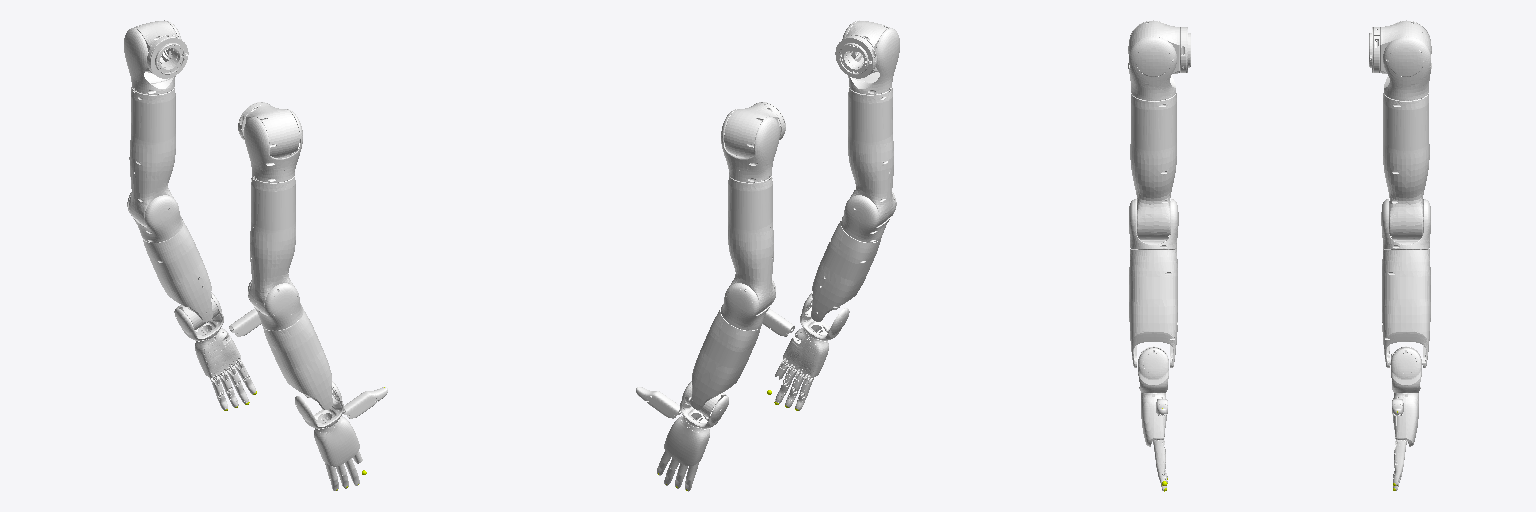
--- What the picture shows (computed from the rendered views, not written in the file) ---
The picture shows the robot from 3 angles, left to right: view 1: azimuth 30°, elevation 25°; view 2: azimuth 150°, elevation 25°; view 3: azimuth 270°, elevation 25°; orthographic projection.
Model T5_D_URDF_ARMNOMASS_v1.0 with 69 links and 68 joints (51 revolute, 17 fixed), rooted at base_link, posed every joint at zero.
Visible links, largest first — view 1: left_upper_arm_yaw_link, right_upper_arm_yaw_link, right_hand_yaw_link, left_hand_yaw_link, right_upper_arm_roll_link, left_upper_arm_pitch_link, right_upper_arm_pitch_link, left_upper_arm_roll_link, left_lower_arm_pitch_link, right_lower_arm_pitch_link, R_hand_base_link, L_hand_base_link (+3 smaller); view 2: right_upper_arm_yaw_link, left_upper_arm_yaw_link, left_hand_yaw_link, right_hand_yaw_link, left_upper_arm_roll_link, right_upper_arm_pitch_link, left_upper_arm_pitch_link, right_upper_arm_roll_link, right_lower_arm_pitch_link, left_lower_arm_pitch_link, L_hand_base_link, R_hand_base_link (+3 smaller); view 3: left_upper_arm_yaw_link, right_upper_arm_yaw_link, right_hand_yaw_link, left_hand_yaw_link, left_upper_arm_roll_link, right_upper_arm_roll_link, right_upper_arm_pitch_link, left_upper_arm_pitch_link, right_hand_roll_link, left_hand_roll_link, left_lower_arm_pitch_link, right_lower_arm_pitch_link (+2 smaller).
Link boxes in pixels (left/top/right/bottom): left_upper_arm_yaw_link: left=129, top=87, right=175, bottom=226; right_upper_arm_yaw_link: left=249, top=176, right=295, bottom=314; right_hand_yaw_link: left=262, top=309, right=332, bottom=409; left_hand_yaw_link: left=143, top=221, right=212, bottom=321; right_upper_arm_roll_link: left=244, top=109, right=302, bottom=182; left_upper_arm_pitch_link: left=134, top=21, right=188, bottom=78; right_upper_arm_pitch_link: left=238, top=102, right=299, bottom=157; left_upper_arm_roll_link: left=124, top=20, right=181, bottom=94; left_lower_arm_pitch_link: left=127, top=192, right=182, bottom=242; right_lower_arm_pitch_link: left=248, top=280, right=302, bottom=330; R_hand_base_link: left=314, top=416, right=359, bottom=466; L_hand_base_link: left=195, top=328, right=241, bottom=381; right_upper_arm_yaw_link: left=848, top=87, right=894, bottom=226; left_upper_arm_yaw_link: left=728, top=176, right=774, bottom=314; left_hand_yaw_link: left=691, top=309, right=761, bottom=409; right_hand_yaw_link: left=811, top=221, right=880, bottom=321; left_upper_arm_roll_link: left=721, top=109, right=779, bottom=182; right_upper_arm_pitch_link: left=835, top=21, right=889, bottom=78; left_upper_arm_pitch_link: left=724, top=102, right=785, bottom=157; right_upper_arm_roll_link: left=842, top=20, right=899, bottom=94; right_lower_arm_pitch_link: left=841, top=192, right=896, bottom=242; left_lower_arm_pitch_link: left=721, top=280, right=775, bottom=330; L_hand_base_link: left=664, top=416, right=709, bottom=466; R_hand_base_link: left=782, top=328, right=828, bottom=381; left_upper_arm_yaw_link: left=1383, top=93, right=1429, bottom=239; right_upper_arm_yaw_link: left=1130, top=93, right=1176, bottom=239; right_hand_yaw_link: left=1129, top=249, right=1177, bottom=367; left_hand_yaw_link: left=1382, top=249, right=1430, bottom=367; left_upper_arm_roll_link: left=1383, top=20, right=1431, bottom=100; right_upper_arm_roll_link: left=1128, top=20, right=1176, bottom=100; right_upper_arm_pitch_link: left=1128, top=21, right=1190, bottom=73; left_upper_arm_pitch_link: left=1369, top=21, right=1431, bottom=73; right_hand_roll_link: left=1138, top=346, right=1168, bottom=395; left_hand_roll_link: left=1391, top=346, right=1421, bottom=395; left_lower_arm_pitch_link: left=1381, top=199, right=1430, bottom=249; right_lower_arm_pitch_link: left=1129, top=199, right=1178, bottom=249.
Bounding box of the posed robot: 0.3123 × 0.5522 × 0.8426 m (x, y, z).
Meshes: 57 distinct files referenced, 34 mesh visuals loaded (34 binary STL); not drawn: 8 (reference not matched to a file when rendering), 15 (file found but could not be loaded).

robot.urdf — T5_D_URDF_ARMNOMASS_v1.0:
<?xml version="1.0" encoding="utf-8"?>
<!-- This URDF was automatically created by SolidWorks to URDF Exporter! Originally created by Stephen Brawner ([email redacted]) 
     Commit Version: 1.6.0-4-g7f85cfe  Build Version: 1.6.7995.38578
     For more information, please see http://wiki.ros.org/sw_urdf_exporter -->
<robot
  name="T5_D_URDF_ARMNOMASS_v1.0">
  <link
    name="base_link">
    <inertial>
      <origin
        xyz="-0.0030357 6.968E-05 -0.087284"
        rpy="0 0 0" />
      <mass
        value="6.6598" />
      <inertia
        ixx="0.048356"
        ixy="-1.314E-05"
        ixz="0.00041517"
        iyy="0.030781"
        iyz="-3.242E-05"
        izz="0.041191" />
    </inertial>
    <visual>
      <origin
        xyz="0 0 0"
        rpy="0 0 0" />
      <geometry>
        <mesh
          filename="../meshes/gr2t2v2_long/base_link.STL" />
      </geometry>
      <material
        name="">
        <color
          rgba="1 1 1 1" />
      </material>
    </visual>
    <collision>
      <origin
        xyz="0 0 0"
        rpy="0 0 0" />
      <geometry>
        <mesh
          filename="../meshes/gr2t2v2_long/base_link.STL" />
      </geometry>
    </collision>
  </link>
  <link
    name="waist_yaw_link">
    <inertial>
      <origin
        xyz="-2.017E-05 8.88E-05 0.024104"
        rpy="0 0 0" />
      <mass
        value="0.67252" />
      <inertia
        ixx="0.0010622"
        ixy="9E-08"
        ixz="-4.3E-07"
        iyy="0.0010624"
        iyz="3.7E-07"
        izz="0.00059099" />
    </inertial>
    <visual>
      <origin
        xyz="0 0 0"
        rpy="0 0 0" />
      <geometry>
        <mesh
          filename="../meshes/gr2t2v2_long/waist_yaw_link.STL" />
      </geometry>
      <material
        name="">
        <color
          rgba="1 1 1 1" />
      </material>
    </visual>
    <collision>
      <origin
        xyz="0 0 0"
        rpy="0 0 0" />
      <geometry>
        <mesh
          filename="../meshes/gr2t2v2_long/waist_yaw_link.STL" />
      </geometry>
    </collision>
  </link>
  <joint
    name="waist_yaw_joint"
    type="revolute">
    <origin
      xyz="0 0 -0.0159"
      rpy="0 0 0" />
    <parent
      link="base_link" />
    <child
      link="waist_yaw_link" />
    <axis
      xyz="0 0 1" />
    <limit
      lower="-2.618"
      upper="2.618"
      effort="74.45"
      velocity="7.7568" />
  </joint>
  <link
    name="torso_link">
    <inertial>
      <origin
        xyz="-0.0054214 0.0010624 -0.12326"
        rpy="0 0 0" />
      <mass
        value="14.058" />
      <inertia
        ixx="0.2545"
        ixy="0.0001127"
        ixz="-0.0023"
        iyy="0.21565"
        iyz="0.00034939"
        izz="0.1107" />
    </inertial>
    <visual>
      <origin
        xyz="0 0 0"
        rpy="0 0 0" />
      <geometry>
        <mesh
          filename="../meshes/gr2t2v2_long/torso_link.STL" />
      </geometry>
      <material
        name="">
        <color
          rgba="1 1 1 1" />
      </material>
    </visual>
    <collision>
      <origin
        xyz="0 0 0"
        rpy="0 0 0" />
      <geometry>
        <mesh
          filename="../meshes/gr2t2v2_long/torso_link.STL" />
      </geometry>
    </collision>
  </link>
  <joint
    name="torso_joint"
    type="fixed">
    <origin
      xyz="0 0 0.39681"
      rpy="0 0 0" />
    <parent
      link="waist_yaw_link" />
    <child
      link="torso_link" />
    <axis
      xyz="0 0 0" />
  </joint>
  <link
    name="head_yaw_link">
    <inertial>
      <origin
        xyz="0 0.0099543 0.0065646"
        rpy="0 0 0" />
      <mass
        value="0.1402" />
      <inertia
        ixx="0.00012944"
        ixy="0"
        ixz="0"
        iyy="0.00010676"
        iyz="-3.991E-05"
        izz="4.821E-05" />
    </inertial>
    <visual>
      <origin
        xyz="0 0 0"
        rpy="0 0 0" />
      <geometry>
        <mesh
          filename="../meshes/gr2t2v2_long/head_yaw_link.STL" />
      </geometry>
      <material
        name="">
        <color
          rgba="1 1 1 1" />
      </material>
    </visual>
    <collision>
      <origin
        xyz="0 0 0"
        rpy="0 0 0" />
      <geometry>
        <mesh
          filename="../meshes/gr2t2v2_long/head_yaw_link.STL" />
      </geometry>
    </collision>
  </link>
  <joint
    name="head_yaw_joint"
    type="revolute">
    <origin
      xyz="0.001 0 0.11061"
      rpy="0 0 0" />
    <parent
      link="torso_link" />
    <child
      link="head_yaw_link" />
    <axis
      xyz="0 0 1" />
    <limit
      lower="-1.3963"
      upper="1.3963"
      effort="17.325"
      velocity="9.1627" />
  </joint>
  <link
    name="head_pitch_link">
    <inertial>
      <origin
        xyz="0.031582 0.0012059 0.072239"
        rpy="0 0 0" />
      <mass
        value="1.6096" />
      <inertia
        ixx="0.0077257"
        ixy="-1.346E-05"
        ixz="-0.00055988"
        iyy="0.010424"
        iyz="0.00010711"
        izz="0.0060799" />
    </inertial>
    <visual>
      <origin
        xyz="0 0 0"
        rpy="0 0 0" />
      <geometry>
        <mesh
          filename="../meshes/gr2t2v2_long/head_pitch_link.STL" />
      </geometry>
      <material
        name="">
        <color
          rgba="1 1 1 1" />
      </material>
    </visual>
    <collision>
      <origin
        xyz="0 0 0"
        rpy="0 0 0" />
      <geometry>
        <mesh
          filename="../meshes/gr2t2v2_long/head_pitch_link.STL" />
      </geometry>
    </collision>
  </link>
  <joint
    name="head_pitch_joint"
    type="revolute">
    <origin
      xyz="0 0 0.044185"
      rpy="0 0 0" />
    <parent
      link="head_yaw_link" />
    <child
      link="head_pitch_link" />
    <axis
      xyz="0 1 0" />
    <limit
      lower="-0.5236"
      upper="0.5236"
      effort="17.325"
      velocity="9.1627" />
  </joint>
  <link
    name="camera_link">
    <inertial>
      <origin
        xyz="0 0 0"
        rpy="0 0 0" />
      <mass
        value="0" />
      <inertia
        ixx="0"
        ixy="0"
        ixz="0"
        iyy="0"
        iyz="0"
        izz="0" />
    </inertial>
    <visual>
      <origin
        xyz="0 0 0"
        rpy="0 0 0" />
      <geometry>
        <mesh
          filename="../meshes/gr2t2v2_long/camera_link.STL" />
      </geometry>
      <material
        name="">
        <color
          rgba="1 1 1 1" />
      </material>
    </visual>
    <collision>
      <origin
        xyz="0 0 0"
        rpy="0 0 0" />
      <geometry>
        <mesh
          filename="../meshes/gr2t2v2_long/camera_link.STL" />
      </geometry>
    </collision>
  </link>
  <joint
    name="camera_joint"
    type="fixed">
    <origin
      xyz="0.11296 0 0.09815"
      rpy="0 0 0" />
    <parent
      link="head_pitch_link" />
    <child
      link="camera_link" />
    <axis
      xyz="0 0 0" />
  </joint>
  <link
    name="left_upper_arm_pitch_link">
    <inertial>
      <origin
        xyz="0.0022312 0.040265 3.797E-05"
        rpy="0 0 0" />
      <mass
        value="1.3432" />
      <inertia
        ixx="0.0031811"
        ixy="-7.306E-05"
        ixz="-1.5E-07"
        iyy="0.0012561"
        iyz="9E-08"
        izz="0.0030442" />
    </inertial>
    <visual>
      <origin
        xyz="0 0 0"
        rpy="0 0 0" />
      <geometry>
        <mesh
          filename="../meshes/gr2t2v2_long/left_upper_arm_pitch_link.STL" />
      </geometry>
      <material
        name="">
        <color
          rgba="1 1 1 1" />
      </material>
    </visual>
    <collision>
      <origin
        xyz="0 0 0"
        rpy="0 0 0" />
      <geometry>
        <mesh
          filename="../meshes/gr2t2v2_long/left_upper_arm_pitch_link.STL" />
      </geometry>
    </collision>
  </link>
  <joint
    name="left_shoulder_pitch_joint"
    type="revolute">
    <origin
      xyz="0 0.15115 0"
      rpy="0 0 0" />
    <parent
      link="torso_link" />
    <child
      link="left_upper_arm_pitch_link" />
    <axis
      xyz="0 1 0" />
    <limit
      lower="-2.9671"
      upper="2.9671"
      effort="74.45"
      velocity="7.7568" />
  </joint>
  <link
    name="left_upper_arm_roll_link">
    <inertial>
      <origin
        xyz="0.0087432 0.0022878 -0.038787"
        rpy="0 0 0" />
      <mass
        value="0.96142" />
      <inertia
        ixx="0.0026111"
        ixy="1.105E-05"
        ixz="-0.00033468"
        iyy="0.0028017"
        iyz="2.91E-06"
        izz="0.00091191" />
    </inertial>
    <visual>
      <origin
        xyz="0 0 0"
        rpy="0 0 0" />
      <geometry>
        <mesh
          filename="../meshes/gr2t2v2_long/left_upper_arm_roll_link.STL" />
      </geometry>
      <material
        name="">
        <color
          rgba="1 1 1 1" />
      </material>
    </visual>
    <collision>
      <origin
        xyz="0 0 0"
        rpy="0 0 0" />
      <geometry>
        <mesh
          filename="../meshes/gr2t2v2_long/left_upper_arm_roll_link.STL" />
      </geometry>
    </collision>
  </link>
  <joint
    name="left_shoulder_roll_joint"
    type="revolute">
    <origin
      xyz="0 0.078848 0"
      rpy="0 0 0" />
    <parent
      link="left_upper_arm_pitch_link" />
    <child
      link="left_upper_arm_roll_link" />
    <axis
      xyz="1 0 0" />
    <limit
      lower="-0.5236"
      upper="2.7925"
      effort="74.45"
      velocity="7.7568" />
  </joint>
  <link
    name="left_upper_arm_yaw_link">
    <inertial>
      <origin
        xyz="-0.00056161 0.0012137 -0.091108"
        rpy="0 0 0" />
      <mass
        value="1.3181" />
      <inertia
        ixx="0.0067903"
        ixy="3.2E-07"
        ixz="-5.12E-06"
        iyy="0.0068059"
        iyz="9.238E-05"
        izz="0.0010853" />
    </inertial>
    <visual>
      <origin
        xyz="0 0 0"
        rpy="0 0 0" />
      <geometry>
        <mesh
          filename="../meshes/gr2t2v2_long/left_upper_arm_yaw_link.STL" />
      </geometry>
      <material
        name="">
        <color
          rgba="1 1 1 1" />
      </material>
    </visual>
    <collision>
      <origin
        xyz="0 0 0"
        rpy="0 0 0" />
      <geometry>
        <mesh
          filename="../meshes/gr2t2v2_long/left_upper_arm_yaw_link.STL" />
      </geometry>
    </collision>
  </link>
  <joint
    name="left_shoulder_yaw_joint"
    type="revolute">
    <origin
      xyz="0 0 -0.09438"
      rpy="0 0 0" />
    <parent
      link="left_upper_arm_roll_link" />
    <child
      link="left_upper_arm_yaw_link" />
    <axis
      xyz="0 0 1" />
    <limit
      lower="-1.8326"
      upper="1.8326"
      effort="42.75"
      velocity="6.283" />
  </joint>
  <link
    name="left_lower_arm_pitch_link">
    <inertial>
      <origin
        xyz="-0.0014862 0.006973 -0.021097"
        rpy="0 0 0" />
      <mass
        value="0.45807" />
      <inertia
        ixx="0.00068974"
        ixy="-3.65E-06"
        ixz="-2.99E-06"
        iyy="0.00057464"
        iyz="-6.575E-05"
        izz="0.00038897" />
    </inertial>
    <visual>
      <origin
        xyz="0 0 0"
        rpy="0 0 0" />
      <geometry>
        <mesh
          filename="../meshes/gr2t2v2_long/left_lower_arm_pitch_link.STL" />
      </geometry>
      <material
        name="">
        <color
          rgba="1 1 1 1" />
      </material>
    </visual>
    <collision>
      <origin
        xyz="0 0 0"
        rpy="0 0 0" />
      <geometry>
        <mesh
          filename="../meshes/gr2t2v2_long/left_lower_arm_pitch_link.STL" />
      </geometry>
    </collision>
  </link>
  <joint
    name="left_elbow_pitch_joint"
    type="revolute">
    <origin
      xyz="0 0 -0.24562"
      rpy="0 -0.3927 0" />
    <parent
      link="left_upper_arm_yaw_link" />
    <child
      link="left_lower_arm_pitch_link" />
    <axis
      xyz="0 1 0" />
    <limit
      lower="-1.5272"
      upper="0.47997"
      effort="42.75"
      velocity="6.283" />
  </joint>
  <link
    name="left_hand_yaw_link">
    <inertial>
      <origin
        xyz="0.00027991 0.0038031 -0.062955"
        rpy="0 0 0" />
      <mass
        value="1.0855" />
      <inertia
        ixx="0.0023598"
        ixy="-9.31E-06"
        ixz="2.063E-05"
        iyy="0.002234"
        iyz="0.00013994"
        izz="0.00088838" />
    </inertial>
    <visual>
      <origin
        xyz="0 0 0"
        rpy="0 0 0" />
      <geometry>
        <mesh
          filename="../meshes/gr2t2v2_long/left_hand_yaw_link.STL" />
      </geometry>
      <material
        name="">
        <color
          rgba="1 1 1 1" />
      </material>
    </visual>
    <collision>
      <origin
        xyz="0 0 0"
        rpy="0 0 0" />
      <geometry>
        <mesh
          filename="../meshes/gr2t2v2_long/left_hand_yaw_link.STL" />
      </geometry>
    </collision>
  </link>
  <joint
    name="left_wrist_yaw_joint"
    type="revolute">
    <origin
      xyz="0 0 -0.053425"
      rpy="0 0 0" />
    <parent
      link="left_lower_arm_pitch_link" />
    <child
      link="left_hand_yaw_link" />
    <axis
      xyz="0 0 1" />
    <limit
      lower="-1.8326"
      upper="1.8326"
      effort="42.9"
      velocity="6.28" />
  </joint>
  <link
    name="left_hand_pitch_link">
    <inertial>
      <origin
        xyz="0.0038604 2.7474E-05 2.9411E-06"
        rpy="0 0 0" />
      <mass
        value="0.45716" />
      <inertia
        ixx="0.00021943"
        ixy="-3.7E-07"
        ixz="-8.6975E-08"
        iyy="0.00022813"
        iyz="-2.1E-07"
        izz="0.00023483" />
    </inertial>
    <visual>
      <origin
        xyz="0 0 0"
        rpy="0 0 0" />
      <geometry>
        <mesh
          filename="../meshes/gr2t2v2_long/left_hand_pitch_link.STL" />
      </geometry>
      <material
        name="">
        <color
          rgba="1 1 1 1" />
      </material>
    </visual>
    <collision>
      <origin
        xyz="0 0 0"
        rpy="0 0 0" />
      <geometry>
        <mesh
          filename="../meshes/gr2t2v2_long/left_hand_pitch_link.STL" />
      </geometry>
    </collision>
  </link>
  <joint
    name="left_wrist_pitch_joint"
    type="revolute">
    <origin
      xyz="0 0 -0.20758"
      rpy="0 0 0" />
    <parent
      link="left_hand_yaw_link" />
    <child
      link="left_hand_pitch_link" />
    <axis
      xyz="0 1 0" />
    <limit
      lower="-0.61087"
      upper="0.61087"
      effort="17.325"
      velocity="9.1627" />
  </joint>
  <link
    name="left_hand_roll_link">
    <inertial>
      <origin
        xyz="0.0087325 -2.8386E-05 -0.015719"
        rpy="0 0 0" />
      <mass
        value="0.20259" />
      <inertia
        ixx="0.0001134"
        ixy="-1.8583E-08"
        ixz="-2.4468E-05"
        iyy="0.00019338"
        iyz="-6.0314E-08"
        izz="0.0001471" />
    </inertial>
    <visual>
      <origin
        xyz="0 0 0"
        rpy="0 0 0" />
      <geometry>
        <mesh
          filename="../meshes/gr2t2v2_long/left_hand_roll_link.STL" />
      </geometry>
      <material
        name="">
        <color
          rgba="1 1 1 1" />
      </material>
    </visual>
    <collision>
      <origin
        xyz="0 0 0"
        rpy="0 0 0" />
      <geometry>
        <mesh
          filename="../meshes/gr2t2v2_long/left_hand_roll_link.STL" />
      </geometry>
    </collision>
  </link>
  <joint
    name="left_wrist_roll_joint"
    type="revolute">
    <origin
      xyz="0 0 0"
      rpy="0 0 0" />
    <parent
      link="left_hand_pitch_link" />
    <child
      link="left_hand_roll_link" />
    <axis
      xyz="1 0 0" />
    <limit
      lower="-0.95993"
      upper="0.95993"
      effort="17.325"
      velocity="9.1627" />
  </joint>
  <link
    name="left_end_effector_link">
  </link>
  <joint
    name="left_end_effector_joint"
    type="fixed">
    <origin
      xyz="0 0 -0.055"
      rpy="0 0 0" />
    <parent
      link="left_hand_roll_link" />
    <child
      link="left_end_effector_link" />
    <axis
      xyz="0 0 0" />
  </joint>



  <link
    name="L_hand_base_link">
    <inertial>
      <origin
        xyz="-0.0010133 -0.001628 -0.049512"
        rpy="0 0 0" />
      <mass
        value="0.29928" />
      <inertia
        ixx="0.00020599"
        ixy="-1.22E-06"
        ixz="8.34E-06"
        iyy="0.00028701"
        iyz="7.34E-06"
        izz="0.0001476" />
    </inertial>
    <visual>
      <origin
        xyz="0 0 0"
        rpy="0 0 0" />
      <geometry>
        <mesh
          filename="../meshes/fourier_hand_6dof/L_hand_base_link.STL" />
      </geometry>
      <material
        name="">
        <color
          rgba="1 1 1 1" />
      </material>
    </visual>
    <collision>
      <origin
        xyz="0 0 0"
        rpy="0 0 0" />
      <geometry>
        <mesh
          filename="../meshes/fourier_hand_6dof/L_hand_base_link.STL" />
      </geometry>
    </collision>
  </link>
  <joint
    name="L_hand_base_joint"
    type="fixed">
    <origin
      xyz="0 0 0"
      rpy="0 0 0" />
    <parent
      link="left_end_effector_link" />
    <child
      link="L_hand_base_link" />
    <axis
      xyz="0 0 0" />
  </joint>
  <link
    name="L_thumb_proximal_yaw_link">
    <inertial>
      <origin
        xyz="0.011674 -0.00039205 0.00044569"
        rpy="0 0 0" />
      <mass
        value="0.0084328" />
      <inertia
        ixx="3E-07"
        ixy="1E-08"
        ixz="-5E-08"
        iyy="8.8E-07"
        iyz="0"
        izz="8.5E-07" />
    </inertial>
    <visual>
      <origin
        xyz="0 0 0"
        rpy="0 0 0" />
      <geometry>
        <mesh
          filename="../meshes/fourier_hand_6dof/L_thumb_proximal_yaw_link.STL" />
      </geometry>
      <material
        name="">
        <color
          rgba="1 1 1 1" />
      </material>
    </visual>
    <collision>
      <origin
        xyz="0 0 0"
        rpy="0 0 0" />
      <geometry>
        <mesh
          filename="../meshes/fourier_hand_6dof/L_thumb_proximal_yaw_link.STL" />
      </geometry>
    </collision>
  </link>
  <joint
    name="L_thumb_proximal_yaw_joint"
    type="revolute">
    <origin
      xyz="0.022 -0.0155 -0.022992"
      rpy="0 0 0" />
    <parent
      link="L_hand_base_link" />
    <child
      link="L_thumb_proximal_yaw_link" />
    <axis
      xyz="0 0 1" />
    <limit
      lower="-1.696"
      upper="0"
      effort="0"
      velocity="0" />
  </joint>
  <link
    name="L_thumb_proximal_pitch_link">
    <inertial>
      <origin
        xyz="0.034496 0.00048877 1.942E-05"
        rpy="0 0 0" />
      <mass
        value="0.060766" />
      <inertia
        ixx="5.08E-06"
        ixy="8.1E-07"
        ixz="2E-08"
        iyy="1.71E-05"
        iyz="0"
        izz="1.85E-05" />
    </inertial>
    <visual>
      <origin
        xyz="0 0 0"
        rpy="0 0 0" />
      <geometry>
        <mesh
          filename="../meshes/fourier_hand_6dof/L_thumb_proximal_pitch_link.STL" />
      </geometry>
      <material
        name="">
        <color
          rgba="1 1 1 1" />
      </material>
    </visual>
    <collision>
      <origin
        xyz="0 0 0"
        rpy="0 0 0" />
      <geometry>
        <mesh
          filename="../meshes/fourier_hand_6dof/L_thumb_proximal_pitch_link.STL" />
      </geometry>
    </collision>
  </link>
  <joint
    name="L_thumb_proximal_pitch_joint"
    type="revolute">
    <origin
      xyz="0.021749 -0.00016321 0"
      rpy="-1.5708 0 -0.0052052" />
    <parent
      link="L_thumb_proximal_yaw_link" />
    <child
      link="L_thumb_proximal_pitch_link" />
    <axis
      xyz="0 0 1" />
    <limit
      lower="0"
      upper="1.143"
      effort="0"
      velocity="0" />
  </joint>
  <link
    name="L_thumb_distal_link">
    <inertial>
      <origin
        xyz="0.012862 -0.0029035 0"
        rpy="0 0 0" />
      <mass
        value="0.018024" />
      <inertia
        ixx="8.6E-07"
        ixy="-1.4E-07"
        ixz="0"
        iyy="2E-06"
        iyz="0"
        izz="1.87E-06" />
    </inertial>
    <visual>
      <origin
        xyz="0 0 0"
        rpy="0 0 0" />
      <geometry>
        <mesh
          filename="../meshes/fourier_hand_6dof/L_thumb_distal_link.STL" />
      </geometry>
      <material
        name="">
        <color
          rgba="1 1 1 1" />
      </material>
    </visual>
    <collision>
      <origin
        xyz="0 0 0"
        rpy="0 0 0" />
      <geometry>
        <mesh
          filename="../meshes/fourier_hand_6dof/L_thumb_distal_link.STL" />
      </geometry>
    </collision>
  </link>
  <joint
    name="L_thumb_distal_joint"
    type="revolute">
    <origin
      xyz="0.061549 0.007464 0"
      rpy="0 1.7448E-05 -0.055652" />
    <parent
      link="L_thumb_proximal_pitch_link" />
    <child
      link="L_thumb_distal_link" />
    <axis
      xyz="0 0 1" />
    <limit
      lower="0"
      upper="1.248"
      effort="0"
      velocity="0" />
    <mimic
      joint="L_thumb_proximal_pitch_joint"
      multiplier="1.06"
      offset="0" />
  </joint>

  <link name="L_thumb_tip_link">
    <visual>
      <origin
        xyz="0 0 0"
        rpy="0 0 0" />
      <geometry>
        <sphere radius="0.005" />
      </geometry>
      <material name="yellow">
        <color rgba="0.9 1 0 1" />
      </material>
    </visual>
  </link>
  <joint name="L_thumb_tip_joint" type="fixed">
    <parent link="L_thumb_distal_link" />
    <child link="L_thumb_tip_link" />
    <origin rpy="0 0 0" xyz="0.0305 -0.001 0" />
  </joint>


  <link
    name="L_index_proximal_link">
    <inertial>
      <origin
        xyz="0.01388524 0.00133459 9.91E-06"
        rpy="0 0 0" />
      <mass
        value="0.01124444" />
      <inertia
        ixx="7E-07"
        ixy="2.1E-07"
        ixz="0"
        iyy="1.81E-06"
        iyz="0"
        izz="1.87E-06" />
    </inertial>
    <visual>
      <origin
        xyz="0 0 0"
        rpy="0 0 0" />
      <geometry>
        <mesh
          filename="../meshes/fourier_hand_6dof/L_index_proximal_link.STL" />
      </geometry>
      <material
        name="">
        <color
          rgba="1 1 1 1" />
      </material>
    </visual>
    <collision>
      <origin
        xyz="0 0 0"
        rpy="0 0 0" />
      <geometry>
        <mesh
          filename="../meshes/fourier_hand_6dof/L_index_proximal_link.STL" />
      </geometry>
    </collision>
  </link>
  <joint
    name="L_index_proximal_joint"
    type="revolute">
    <origin
      xyz="0.026868 -0.0123 -0.093989"
      rpy="0 1.5184 0" />
    <parent
      link="L_hand_base_link" />
    <child
      link="L_index_proximal_link" />
    <axis
      xyz="0 0 1" />
    <limit
      lower="-1.592"
      upper="0"
      effort="0"
      velocity="0" />
  </joint>
  <link
    name="L_index_intermediate_link">
    <inertial>
      <origin
        xyz="0.01473915 0.00479264 6.8E-06"
        rpy="0 0 0" />
      <mass
        value="0.0027085" />
      <inertia
        ixx="8E-08"
        ixy="3E-08"
        ixz="0"
        iyy="4.9E-07"
        iyz="0"
        izz="4.9E-07" />
    </inertial>
    <visual>
      <origin
        xyz="0 0 0"
        rpy="0 0 0" />
      <geometry>
        <mesh
          filename="../meshes/fourier_hand_6dof/L_index_intermediate_link.STL" />
      </geometry>
      <material
        name="">
        <color
          rgba="1 1 1 1" />
      </material>
    </visual>
    <collision>
      <origin
        xyz="0 0 0"
        rpy="0 0 0" />
      <geometry>
        <mesh
          filename="../meshes/fourier_hand_6dof/L_index_intermediate_link.STL" />
      </geometry>
    </collision>
  </link>
  <joint
    name="L_index_intermediate_joint"
    type="revolute">
    <origin
      xyz="0.031533 -0.0054444 0"
      rpy="0 0.00014037 -0.0018338" />
    <parent
      link="L_index_proximal_link" />
    <child
      link="L_index_intermediate_link" />
    <axis
      xyz="0 0 1" />
    <limit
      lower="-1.791"
      upper="0"
      effort="0"
      velocity="0" />
    <mimic
      joint="L_index_proximal_joint"
      multiplier="0.975"
      offset="0" />
  </joint>

  <link name="L_index_tip_link">
    <visual>
      <origin
        xyz="0 0 0"
        rpy="0 0 0" />
      <geometry>
        <sphere radius="0.005" />
      </geometry>
      <material name="yellow">
        <color rgba="0.9 1 0 1" />
      </material>
    </visual>
  </link>
  <joint name="L_index_tip_joint" type="fixed">
    <parent link="L_index_intermediate_link" />
    <child link="L_index_tip_link" />
    <origin rpy="0 0 0" xyz="0.0390 -0.0020 0" />
  </joint>


  <link
    name="L_middle_proximal_link">
    <inertial>
      <origin
        xyz="0.01388815 0.00130401 9.91E-06"
        rpy="0 0 0" />
      <mass
        value="0.01124444" />
      <inertia
        ixx="7E-07"
        ixy="2.2E-07"
        ixz="0"
        iyy="1.81E-06"
        iyz="0"
        izz="1.87E-06" />
    </inertial>
    <visual>
      <origin
        xyz="0 0 0"
        rpy="0 0 0" />
      <geometry>
        <mesh
          filename="../meshes/fourier_hand_6dof/L_middle_proximal_link.STL" />
      </geometry>
      <material
        name="">
        <color
          rgba="1 1 1 1" />
      </material>
    </visual>
    <collision>
      <origin
        xyz="0 0 0"
        rpy="0 0 0" />
      <geometry>
        <mesh
          filename="../meshes/fourier_hand_6dof/L_middle_proximal_link.STL" />
      </geometry>
    </collision>
  </link>
  <joint
    name="L_middle_proximal_joint"
    type="revolute">
    <origin
      xyz="0.0085 -0.0123 -0.095992"
      rpy="0 1.5708 0" />
    <parent
      link="L_hand_base_link" />
    <child
      link="L_middle_proximal_link" />
    <axis
      xyz="0 0 1" />
    <limit
      lower="-1.593"
      upper="0"
      effort="0"
      velocity="0" />
  </joint>
  <link
    name="L_middle_intermediate_link">
    <inertial>
      <origin
        xyz="0.01836 0.0048894 0"
        rpy="0 0 0" />
      <mass
        value="0.0032739" />
      <inertia
        ixx="9E-08"
        ixy="5E-08"
        ixz="0"
        iyy="7.9E-07"
        iyz="0"
        izz="7.8E-07" />
    </inertial>
    <visual>
      <origin
        xyz="0 0 0"
        rpy="0 0 0" />
      <geometry>
        <mesh
          filename="../meshes/fourier_hand_6dof/L_middle_intermediate_link.STL" />
      </geometry>
      <material
        name="">
        <color
          rgba="1 1 1 1" />
      </material>
    </visual>
    <collision>
      <origin
        xyz="0 0 0"
        rpy="0 0 0" />
      <geometry>
        <mesh
          filename="../meshes/fourier_hand_6dof/L_middle_intermediate_link.STL" />
      </geometry>
    </collision>
  </link>
  <joint
    name="L_middle_intermediate_joint"
    type="revolute">
    <origin
      xyz="0.031521 -0.0055139 0"
      rpy="0 0.00015517 0.0048744" />
    <parent
      link="L_middle_proximal_link" />
    <child
      link="L_middle_intermediate_link" />
    <axis
      xyz="0 0 1" />
    <limit
      lower="-1.792"
      upper="0"
      effort="0"
      velocity="0" />
    <mimic
      joint="L_middle_proximal_joint"
      multiplier="0.975"
      offset="0" />
  </joint>

  <link name="L_middle_tip_link">
    <visual>
      <origin
        xyz="0 0 0"
        rpy="0 0 0" />
      <geometry>
        <sphere radius="0.005" />
      </geometry>
      <material name="yellow">
        <color rgba="0.9 1 0 1" />
      </material>
    </visual>
  </link>
  <joint name="L_middle_tip_joint" type="fixed">
    <parent link="L_middle_intermediate_link" />
    <child link="L_middle_tip_link" />
    <origin rpy="0 0 0" xyz="0.047 -0.0025 0" />
  </joint>


  <link
    name="L_ring_proximal_link">
    <inertial>
      <origin
        xyz="0.01388576 0.00132917 0.00025991"
        rpy="0 0 0" />
      <mass
        value="0.01124444" />
      <inertia
        ixx="7E-07"
        ixy="2.1E-07"
        ixz="0"
        iyy="1.81E-06"
        iyz="0"
        izz="1.87E-06" />
    </inertial>
    <visual>
      <origin
        xyz="0 0 0"
        rpy="0 0 0" />
      <geometry>
        <mesh
          filename="../meshes/fourier_hand_6dof/L_ring_proximal_link.STL" />
      </geometry>
      <material
        name="">
        <color
          rgba="1 1 1 1" />
      </material>
    </visual>
    <collision>
      <origin
        xyz="0 0 0"
        rpy="0 0 0" />
      <geometry>
        <mesh
          filename="../meshes/fourier_hand_6dof/L_ring_proximal_link.STL" />
      </geometry>
    </collision>
  </link>
  <joint
    name="L_ring_proximal_joint"
    type="revolute">
    <origin
      xyz="-0.010211 -0.0123 -0.095924"
      rpy="3.1416 1.5184 3.1416" />
    <parent
      link="L_hand_base_link" />
    <child
      link="L_ring_proximal_link" />
    <axis
      xyz="0 0 1" />
    <limit
      lower="-1.593"
      upper="0"
      effort="0"
      velocity="0" />
  </joint>
  <link
    name="L_ring_intermediate_link">
    <inertial>
      <origin
        xyz="0.014739 0.0047926 6.8E-06"
        rpy="0 0 0" />
      <mass
        value="0.0027085" />
      <inertia
        ixx="8E-08"
        ixy="3E-08"
        ixz="0"
        iyy="4.9E-07"
        iyz="0"
        izz="4.9E-07" />
    </inertial>
    <visual>
      <origin
        xyz="0 0 0"
        rpy="0 0 0" />
      <geometry>
        <mesh
          filename="../meshes/fourier_hand_6dof/L_ring_intermediate_link.STL" />
      </geometry>
      <material
        name="">
        <color
          rgba="1 1 1 1" />
      </material>
    </visual>
    <collision>
      <origin
        xyz="0 0 0"
        rpy="0 0 0" />
      <geometry>
        <mesh
          filename="../meshes/fourier_hand_6dof/L_ring_intermediate_link.STL" />
      </geometry>
    </collision>
  </link>
  <joint
    name="L_ring_intermediate_joint"
    type="revolute">
    <origin
      xyz="0.031531 -0.0054567 0.00025"
      rpy="0 0.00014037 -0.0025338" />
    <parent
      link="L_ring_proximal_link" />
    <child
      link="L_ring_intermediate_link" />
    <axis
      xyz="0 0 1" />
    <limit
      lower="-1.791"
      upper="0"
      effort="0"
      velocity="0" />
    <mimic
      joint="L_ring_proximal_joint"
      multiplier="0.975"
      offset="0" />
  </joint>

  <link name="L_ring_tip_link">
    <visual>
      <origin
        xyz="0 0 0"
        rpy="0 0 0" />
      <geometry>
        <sphere radius="0.005" />
      </geometry>
      <material name="green">
        <color rgba="0.9 1 0 1" />
      </material>
    </visual>
  </link>
  <joint name="L_ring_tip_joint" type="fixed">
    <parent link="L_ring_intermediate_link" />
    <child link="L_ring_tip_link" />
    <origin rpy="0 0 0" xyz="0.0385 -0.0015 0" />
  </joint>


  <link
    name="L_pinky_proximal_link">
    <inertial>
      <origin
        xyz="0.01388552 0.0013317 9.91E-06"
        rpy="0 0 0" />
      <mass
        value="0.01124444" />
      <inertia
        ixx="7E-07"
        ixy="2.1E-07"
        ixz="0"
        iyy="1.81E-06"
        iyz="0"
        izz="1.87E-06" />
    </inertial>
    <visual>
      <origin
        xyz="0 0 0"
        rpy="0 0 0" />
      <geometry>
        <mesh
          filename="../meshes/fourier_hand_6dof/L_pinky_proximal_link.STL" />
      </geometry>
      <material
        name="">
        <color
          rgba="1 1 1 1" />
      </material>
    </visual>
    <collision>
      <origin
        xyz="0 0 0"
        rpy="0 0 0" />
      <geometry>
        <mesh
          filename="../meshes/fourier_hand_6dof/L_pinky_proximal_link.STL" />
      </geometry>
    </collision>
  </link>
  <joint
    name="L_pinky_proximal_joint"
    type="revolute">
    <origin
      xyz="-0.028228 -0.0123 -0.094012"
      rpy="3.1416 1.4661 3.1416" />
    <parent
      link="L_hand_base_link" />
    <child
      link="L_pinky_proximal_link" />
    <axis
      xyz="0 0 1" />
    <limit
      lower="-1.592"
      upper="0"
      effort="0"
      velocity="0" />
  </joint>
  <link
    name="L_pinky_intermediate_link">
    <inertial>
      <origin
        xyz="0.012117 0.0047104 1.872E-05"
        rpy="0 0 0" />
      <mass
        value="0.0024076" />
      <inertia
        ixx="7E-08"
        ixy="1E-08"
        ixz="0"
        iyy="3.2E-07"
        iyz="0"
        izz="3.2E-07" />
    </inertial>
    <visual>
      <origin
        xyz="0 0 0"
        rpy="0 0 0" />
      <geometry>
        <mesh
          filename="../meshes/fourier_hand_6dof/L_pinky_intermediate_link.STL" />
      </geometry>
      <material
        name="">
        <color
          rgba="1 1 1 1" />
      </material>
    </visual>
    <collision>
      <origin
        xyz="0 0 0"
        rpy="0 0 0" />
      <geometry>
        <mesh
          filename="../meshes/fourier_hand_6dof/L_pinky_intermediate_link.STL" />
      </geometry>
    </collision>
  </link>
  <joint
    name="L_pinky_intermediate_joint"
    type="revolute">
    <origin
      xyz="0.031532 -0.005451 0"
      rpy="0 0.00032164 -0.011403" />
    <parent
      link="L_pinky_proximal_link" />
    <child
      link="L_pinky_intermediate_link" />
    <axis
      xyz="0 0 1" />
    <limit
      lower="-1.791"
      upper="0"
      effort="0"
      velocity="0" />
    <mimic
      joint="L_pinky_proximal_joint"
      multiplier="0.975"
      offset="0" />
  </joint>

  <link name="L_pinky_tip_link">
    <visual>
      <origin
        xyz="0 0 0"
        rpy="0 0 0" />
      <geometry>
        <sphere radius="0.005" />
      </geometry>
      <material name="yellow">
        <color rgba="0.9 1 0 1" />
      </material>
    </visual>
  </link>
  <joint name="L_pinky_tip_joint" type="fixed">
    <parent link="L_pinky_intermediate_link" />
    <child link="L_pinky_tip_link" />
    <origin rpy="0 0 0" xyz="0.033 -0.0015 0" />
  </joint>



  <link
    name="right_upper_arm_pitch_link">
    <inertial>
      <origin
        xyz="0.0022312 -0.040265 3.797E-05"
        rpy="0 0 0" />
      <mass
        value="1.3432" />
      <inertia
        ixx="0.0031811"
        ixy="7.306E-05"
        ixz="-1.5E-07"
        iyy="0.0012561"
        iyz="-9E-08"
        izz="0.0030442" />
    </inertial>
    <visual>
      <origin
        xyz="0 0 0"
        rpy="0 0 0" />
      <geometry>
        <mesh
          filename="../meshes/gr2t2v2_long/right_upper_arm_pitch_link.STL" />
      </geometry>
      <material
        name="">
        <color
          rgba="1 1 1 1" />
      </material>
    </visual>
    <collision>
      <origin
        xyz="0 0 0"
        rpy="0 0 0" />
      <geometry>
        <mesh
          filename="../meshes/gr2t2v2_long/right_upper_arm_pitch_link.STL" />
      </geometry>
    </collision>
  </link>
  <joint
    name="right_shoulder_pitch_joint"
    type="revolute">
    <origin
      xyz="0 -0.1585 0"
      rpy="0 0 0" />
    <parent
      link="torso_link" />
    <child
      link="right_upper_arm_pitch_link" />
    <axis
      xyz="0 1 0" />
    <limit
      lower="-2.9671"
      upper="2.9671"
      effort="74.45"
      velocity="7.7568" />
  </joint>
  <link
    name="right_upper_arm_roll_link">
    <inertial>
      <origin
        xyz="0.0087432 -0.0022878 -0.038787"
        rpy="0 0 0" />
      <mass
        value="0.96142" />
      <inertia
        ixx="0.0026111"
        ixy="-1.105E-05"
        ixz="-0.00033468"
        iyy="0.0028017"
        iyz="-2.91E-06"
        izz="0.00091191" />
    </inertial>
    <visual>
      <origin
        xyz="0 0 0"
        rpy="0 0 0" />
      <geometry>
        <mesh
          filename="../meshes/gr2t2v2_long/right_upper_arm_roll_link.STL" />
      </geometry>
      <material
        name="">
        <color
          rgba="1 1 1 1" />
      </material>
    </visual>
    <collision>
      <origin
        xyz="0 0 0"
        rpy="0 0 0" />
      <geometry>
        <mesh
          filename="../meshes/gr2t2v2_long/right_upper_arm_roll_link.STL" />
      </geometry>
    </collision>
  </link>
  <joint
    name="right_shoulder_roll_joint"
    type="revolute">
    <origin
      xyz="0 -0.071498 0"
      rpy="0 0 0" />
    <parent
      link="right_upper_arm_pitch_link" />
    <child
      link="right_upper_arm_roll_link" />
    <axis
      xyz="1 0 0" />
    <limit
      lower="-2.7925"
      upper="0.5236"
      effort="74.45"
      velocity="7.7568" />
  </joint>
  <link
    name="right_upper_arm_yaw_link">
    <inertial>
      <origin
        xyz="-0.00056161 -0.0012137 -0.091108"
        rpy="0 0 0" />
      <mass
        value="1.3181" />
      <inertia
        ixx="0.0067903"
        ixy="-3.2E-07"
        ixz="-5.12E-06"
        iyy="0.0068059"
        iyz="-9.238E-05"
        izz="0.0010853" />
    </inertial>
    <visual>
      <origin
        xyz="0 0 0"
        rpy="0 0 0" />
      <geometry>
        <mesh
          filename="../meshes/gr2t2v2_long/right_upper_arm_yaw_link.STL" />
      </geometry>
      <material
        name="">
        <color
          rgba="1 1 1 1" />
      </material>
    </visual>
    <collision>
      <origin
        xyz="0 0 0"
        rpy="0 0 0" />
      <geometry>
        <mesh
          filename="../meshes/gr2t2v2_long/right_upper_arm_yaw_link.STL" />
      </geometry>
    </collision>
  </link>
  <joint
    name="right_shoulder_yaw_joint"
    type="revolute">
    <origin
      xyz="0 0 -0.09438"
      rpy="0 0 0" />
    <parent
      link="right_upper_arm_roll_link" />
    <child
      link="right_upper_arm_yaw_link" />
    <axis
      xyz="0 0 1" />
    <limit
      lower="-1.8326"
      upper="1.8326"
      effort="42.75"
      velocity="6.283" />
  </joint>
  <link
    name="right_lower_arm_pitch_link">
    <inertial>
      <origin
        xyz="-0.0014862 -0.006973 -0.021097"
        rpy="0 0 0" />
      <mass
        value="0.45807" />
      <inertia
        ixx="0.00068974"
        ixy="3.65E-06"
        ixz="-2.99E-06"
        iyy="0.00057464"
        iyz="6.575E-05"
        izz="0.00038897" />
    </inertial>
    <visual>
      <origin
        xyz="0 0 0"
        rpy="0 0 0" />
      <geometry>
        <mesh
          filename="../meshes/gr2t2v2_long/right_lower_arm_pitch_link.STL" />
      </geometry>
      <material
        name="">
        <color
          rgba="1 1 1 1" />
      </material>
    </visual>
    <collision>
      <origin
        xyz="0 0 0"
        rpy="0 0 0" />
      <geometry>
        <mesh
          filename="../meshes/gr2t2v2_long/right_lower_arm_pitch_link.STL" />
      </geometry>
    </collision>
  </link>
  <joint
    name="right_elbow_pitch_joint"
    type="revolute">
    <origin
      xyz="0 0 -0.24563"
      rpy="0 -0.3927 0" />
    <parent
      link="right_upper_arm_yaw_link" />
    <child
      link="right_lower_arm_pitch_link" />
    <axis
      xyz="0 1 0" />
    <limit
      lower="-1.5272"
      upper="0.47997"
      effort="42.75"
      velocity="6.283" />
  </joint>
  <link
    name="right_hand_yaw_link">
    <inertial>
      <origin
        xyz="0.00027991 -0.0038031 -0.062955"
        rpy="0 0 0" />
      <mass
        value="1.0855" />
      <inertia
        ixx="0.0023598"
        ixy="9.31E-06"
        ixz="2.063E-05"
        iyy="0.002234"
        iyz="-0.00013994"
        izz="0.00088838" />
    </inertial>
    <visual>
      <origin
        xyz="0 0 0"
        rpy="0 0 0" />
      <geometry>
        <mesh
          filename="../meshes/gr2t2v2_long/right_hand_yaw_link.STL" />
      </geometry>
      <material
        name="">
        <color
          rgba="1 1 1 1" />
      </material>
    </visual>
    <collision>
      <origin
        xyz="0 0 0"
        rpy="0 0 0" />
      <geometry>
        <mesh
          filename="../meshes/gr2t2v2_long/right_hand_yaw_link.STL" />
      </geometry>
    </collision>
  </link>
  <joint
    name="right_wrist_yaw_joint"
    type="revolute">
    <origin
      xyz="0 0 -0.053425"
      rpy="0 0 0" />
    <parent
      link="right_lower_arm_pitch_link" />
    <child
      link="right_hand_yaw_link" />
    <axis
      xyz="0 0 1" />
    <limit
      lower="-1.8326"
      upper="1.8326"
      effort="42.9"
      velocity="6.28" />
  </joint>
  <link
    name="right_hand_pitch_link">
    <inertial>
      <origin
        xyz="0.0038604 -2.7474E-05 2.9411E-06"
        rpy="0 0 0" />
      <mass
        value="0.45716" />
      <inertia
        ixx="0.00021943"
        ixy="3.7E-07"
        ixz="-8.6975E-08"
        iyy="0.00022813"
        iyz="2.1E-07"
        izz="0.00023483" />
    </inertial>
    <visual>
      <origin
        xyz="0 0 0"
        rpy="0 0 0" />
      <geometry>
        <mesh
          filename="../meshes/gr2t2v2_long/right_hand_pitch_link.STL" />
      </geometry>
      <material
        name="">
        <color
          rgba="1 1 1 1" />
      </material>
    </visual>
    <collision>
      <origin
        xyz="0 0 0"
        rpy="0 0 0" />
      <geometry>
        <mesh
          filename="../meshes/gr2t2v2_long/right_hand_pitch_link.STL" />
      </geometry>
    </collision>
  </link>
  <joint
    name="right_wrist_pitch_joint"
    type="revolute">
    <origin
      xyz="0 0 -0.20758"
      rpy="0 0 0" />
    <parent
      link="right_hand_yaw_link" />
    <child
      link="right_hand_pitch_link" />
    <axis
      xyz="0 1 0" />
    <limit
      lower="-0.61087"
      upper="0.61087"
      effort="17.325"
      velocity="9.1627" />
  </joint>
  <link
    name="right_hand_roll_link">
    <inertial>
      <origin
        xyz="0.0087325 2.8386E-05 -0.015719"
        rpy="0 0 0" />
      <mass
        value="0.20259" />
      <inertia
        ixx="0.0001134"
        ixy="1.8583E-08"
        ixz="-2.4468E-05"
        iyy="0.00019338"
        iyz="6.0314E-08"
        izz="0.0001471" />
    </inertial>
    <visual>
      <origin
        xyz="0 0 0"
        rpy="0 0 0" />
      <geometry>
        <mesh
          filename="../meshes/gr2t2v2_long/right_hand_roll_link.STL" />
      </geometry>
      <material
        name="">
        <color
          rgba="1 1 1 1" />
      </material>
    </visual>
    <collision>
      <origin
        xyz="0 0 0"
        rpy="0 0 0" />
      <geometry>
        <mesh
          filename="../meshes/gr2t2v2_long/right_hand_roll_link.STL" />
      </geometry>
    </collision>
  </link>
  <joint
    name="right_wrist_roll_joint"
    type="revolute">
    <origin
      xyz="0 0 0"
      rpy="0 0 0" />
    <parent
      link="right_hand_pitch_link" />
    <child
      link="right_hand_roll_link" />
    <axis
      xyz="1 0 0" />
    <limit
      lower="-0.95993"
      upper="0.95993"
      effort="17.325"
      velocity="9.1627" />
  </joint>
  <link
    name="right_end_effector_link">
  </link>
  <joint
    name="right_end_effector_joint"
    type="fixed">
    <origin
      xyz="0 0 -0.055"
      rpy="0 0 0" />
    <parent
      link="right_hand_roll_link" />
    <child
      link="right_end_effector_link" />
    <axis
      xyz="0 0 0" />
  </joint>



  <link
    name="R_hand_base_link">
    <inertial>
      <origin
        xyz="-0.0010591 0.0016177 -0.049492"
        rpy="0 0 0" />
      <mass
        value="0.2993" />
      <inertia
        ixx="0.00020609"
        ixy="1.23E-06"
        ixz="8.3E-06"
        iyy="0.00028713"
        iyz="-7.35E-06"
        izz="0.00014748" />
    </inertial>
    <visual>
      <origin
        xyz="0 0 0"
        rpy="0 0 0" />
      <geometry>
        <mesh
          filename="../meshes/fourier_hand_6dof/R_hand_base_link.STL" />
      </geometry>
      <material
        name="">
        <color
          rgba="1 1 1 1" />
      </material>
    </visual>
    <collision>
      <origin
        xyz="0 0 0"
        rpy="0 0 0" />
      <geometry>
        <mesh
          filename="../meshes/fourier_hand_6dof/R_hand_base_link.STL" />
      </geometry>
    </collision>
  </link>
  <joint
    name="R_hand_base_joint"
    type="fixed">
    <origin
      xyz="0 0 0"
      rpy="0 0 0" />
    <parent
      link="right_end_effector_link" />
    <child
      link="R_hand_base_link" />
    <axis
      xyz="0 0 0" />
  </joint>
  <link
    name="R_thumb_proximal_yaw_link">
    <inertial>
      <origin
        xyz="0.011674 -0.00039794 -0.00044567"
        rpy="0 0 0" />
      <mass
        value="0.0084327" />
      <inertia
        ixx="3E-07"
        ixy="1E-08"
        ixz="5E-08"
        iyy="8.8E-07"
        iyz="0"
        izz="8.5E-07" />
    </inertial>
    <visual>
      <origin
        xyz="0 0 0"
        rpy="0 0 0" />
      <geometry>
        <mesh
          filename="../meshes/fourier_hand_6dof/R_thumb_proximal_yaw_link.STL" />
      </geometry>
      <material
        name="">
        <color
          rgba="1 1 1 1" />
      </material>
    </visual>
    <collision>
      <origin
        xyz="0 0 0"
        rpy="0 0 0" />
      <geometry>
        <mesh
          filename="../meshes/fourier_hand_6dof/R_thumb_proximal_yaw_link.STL" />
      </geometry>
    </collision>
  </link>
  <joint
    name="R_thumb_proximal_yaw_joint"
    type="revolute">
    <origin
      xyz="0.022 0.0155 -0.022892"
      rpy="3.1416 0 0" />
    <parent
      link="R_hand_base_link" />
    <child
      link="R_thumb_proximal_yaw_link" />
    <axis
      xyz="0 0 1" />
    <limit
      lower="-1.696"
      upper="0"
      effort="0"
      velocity="0" />
  </joint>
  <link
    name="R_thumb_proximal_pitch_link">
    <inertial>
      <origin
        xyz="0.034496 0.00048877 1.942E-05"
        rpy="0 0 0" />
      <mass
        value="0.060766" />
      <inertia
        ixx="5.08E-06"
        ixy="8.1E-07"
        ixz="2E-08"
        iyy="1.71E-05"
        iyz="0"
        izz="1.85E-05" />
    </inertial>
    <visual>
      <origin
        xyz="0 0 0"
        rpy="0 0 0" />
      <geometry>
        <mesh
          filename="../meshes/fourier_hand_6dof/R_thumb_proximal_pitch_link.STL" />
      </geometry>
      <material
        name="">
        <color
          rgba="1 1 1 1" />
      </material>
    </visual>
    <collision>
      <origin
        xyz="0 0 0"
        rpy="0 0 0" />
      <geometry>
        <mesh
          filename="../meshes/fourier_hand_6dof/R_thumb_proximal_pitch_link.STL" />
      </geometry>
    </collision>
  </link>
  <joint
    name="R_thumb_proximal_pitch_joint"
    type="revolute">
    <origin
      xyz="0.02175 -7.414E-05 0"
      rpy="1.5708 0 -0.0057076" />
    <parent
      link="R_thumb_proximal_yaw_link" />
    <child
      link="R_thumb_proximal_pitch_link" />
    <axis
      xyz="0 0 1" />
    <limit
      lower="0"
      upper="1.143"
      effort="0"
      velocity="0" />
  </joint>
  <link
    name="R_thumb_distal_link">
    <inertial>
      <origin
        xyz="0.01286229 -0.00290348 0"
        rpy="0 0 0" />
      <mass
        value="0.01802377" />
      <inertia
        ixx="8.6E-07"
        ixy="-1.4E-07"
        ixz="0"
        iyy="2E-06"
        iyz="0"
        izz="1.87E-06" />
    </inertial>
    <visual>
      <origin
        xyz="0 0 0"
        rpy="0 0 0" />
      <geometry>
        <mesh
          filename="../meshes/fourier_hand_6dof/R_thumb_distal_link.STL" />
      </geometry>
      <material
        name="">
        <color
          rgba="1 1 1 1" />
      </material>
    </visual>
    <collision>
      <origin
        xyz="0 0 0"
        rpy="0 0 0" />
      <geometry>
        <mesh
          filename="../meshes/fourier_hand_6dof/R_thumb_distal_link.STL" />
      </geometry>
    </collision>
  </link>
  <joint
    name="R_thumb_distal_joint"
    type="revolute">
    <origin
      xyz="0.061549 0.007464 0"
      rpy="0 1.7448E-05 -0.055652" />
    <parent
      link="R_thumb_proximal_pitch_link" />
    <child
      link="R_thumb_distal_link" />
    <axis
      xyz="0 0 1" />
    <limit
      lower="0"
      upper="1.248"
      effort="0"
      velocity="0" />
    <mimic
      joint="R_thumb_proximal_pitch_joint"
      multiplier="1.06"
      offset="0" />
  </joint>

  <link name="R_thumb_tip_link">
    <visual>
      <origin
        xyz="0 0 0"
        rpy="0 0 0" />
      <geometry>
        <sphere radius="0.005" />
      </geometry>
      <material name="yellow">
        <color rgba="0.9 1 0 1" />
      </material>
    </visual>
  </link>
  <joint name="R_thumb_tip_joint" type="fixed">
    <parent link="R_thumb_distal_link" />
    <child link="R_thumb_tip_link" />
    <origin rpy="0 0 0" xyz="0.030 -0.0015 0" />
  </joint>


  <link
    name="R_index_proximal_link">
    <inertial>
      <origin
        xyz="0.01388484 0.00133877 9.91E-06"
        rpy="0 0 0" />
      <mass
        value="0.01124444" />
      <inertia
        ixx="7E-07"
        ixy="2.1E-07"
        ixz="0"
        iyy="1.81E-06"
        iyz="0"
        izz="1.87E-06" />
    </inertial>
    <visual>
      <origin
        xyz="0 0 0"
        rpy="0 0 0" />
      <geometry>
        <mesh
          filename="../meshes/fourier_hand_6dof/R_index_proximal_link.STL" />
      </geometry>
      <material
        name="">
        <color
          rgba="1 1 1 1" />
      </material>
    </visual>
    <collision>
      <origin
        xyz="0 0 0"
        rpy="0 0 0" />
      <geometry>
        <mesh
          filename="../meshes/fourier_hand_6dof/R_index_proximal_link.STL" />
      </geometry>
    </collision>
  </link>
  <joint
    name="R_index_proximal_joint"
    type="revolute">
    <origin
      xyz="0.026866 0.0123 -0.09399"
      rpy="3.1416 1.5184 0" />
    <parent
      link="R_hand_base_link" />
    <child
      link="R_index_proximal_link" />
    <axis
      xyz="0 0 1" />
    <limit
      lower="-1.592"
      upper="0"
      effort="0"
      velocity="0" />
  </joint>
  <link
    name="R_index_intermediate_link">
    <inertial>
      <origin
        xyz="0.01473915 0.00479264 6.8E-06"
        rpy="0 0 0" />
      <mass
        value="0.0027085" />
      <inertia
        ixx="8E-08"
        ixy="3E-08"
        ixz="0"
        iyy="4.9E-07"
        iyz="0"
        izz="4.9E-07" />
    </inertial>
    <visual>
      <origin
        xyz="0 0 0"
        rpy="0 0 0" />
      <geometry>
        <mesh
          filename="../meshes/fourier_hand_6dof/R_index_intermediate_link.STL" />
      </geometry>
      <material
        name="">
        <color
          rgba="1 1 1 1" />
      </material>
    </visual>
    <collision>
      <origin
        xyz="0 0 0"
        rpy="0 0 0" />
      <geometry>
        <mesh
          filename="../meshes/fourier_hand_6dof/R_index_intermediate_link.STL" />
      </geometry>
    </collision>
  </link>
  <joint
    name="R_index_intermediate_joint"
    type="revolute">
    <origin
      xyz="0.031535 -0.0054349 0"
      rpy="0 0.00014037 -0.0012936" />
    <parent
      link="R_index_proximal_link" />
    <child
      link="R_index_intermediate_link" />
    <axis
      xyz="0 0 1" />
    <limit
      lower="-1.791"
      upper="0"
      effort="0"
      velocity="0" />
    <mimic
      joint="R_index_proximal_joint"
      multiplier="0.975"
      offset="0" />
  </joint>

  <link name="R_index_tip_link">
    <visual>
      <origin
        xyz="0 0 0"
        rpy="0 0 0" />
      <geometry>
        <sphere radius="0.005" />
      </geometry>
      <material name="yellow">
        <color rgba="0.9 1 0 1" />
      </material>
    </visual>
  </link>
  <joint name="R_index_tip_joint" type="fixed">
    <parent link="R_index_intermediate_link" />
    <child link="R_index_tip_link" />
    <origin rpy="0 0 0" xyz="0.0390 -0.0020 0" />
  </joint>


  <link
    name="R_middle_proximal_link">
    <inertial>
      <origin
        xyz="0.01388588 0.00132788 9.91E-06"
        rpy="0 0 0" />
      <mass
        value="0.01124444" />
      <inertia
        ixx="7E-07"
        ixy="2.1E-07"
        ixz="0"
        iyy="1.81E-06"
        iyz="0"
        izz="1.87E-06" />
    </inertial>
    <visual>
      <origin
        xyz="0 0 0"
        rpy="0 0 0" />
      <geometry>
        <mesh
          filename="../meshes/fourier_hand_6dof/R_middle_proximal_link.STL" />
      </geometry>
      <material
        name="">
        <color
          rgba="1 1 1 1" />
      </material>
    </visual>
    <collision>
      <origin
        xyz="0 0 0"
        rpy="0 0 0" />
      <geometry>
        <mesh
          filename="../meshes/fourier_hand_6dof/R_middle_proximal_link.STL" />
      </geometry>
    </collision>
  </link>
  <joint
    name="R_middle_proximal_joint"
    type="revolute">
    <origin
      xyz="0.0085 0.0123 -0.096"
      rpy="3.1416 1.5708 0" />
    <parent
      link="R_hand_base_link" />
    <child
      link="R_middle_proximal_link" />
    <axis
      xyz="0 0 1" />
    <limit
      lower="-1.593"
      upper="0"
      effort="0"
      velocity="0" />
  </joint>
  <link
    name="R_middle_intermediate_link">
    <inertial>
      <origin
        xyz="0.0183602 0.00488939 0"
        rpy="0 0 0" />
      <mass
        value="0.0032739" />
      <inertia
        ixx="9E-08"
        ixy="5E-08"
        ixz="0"
        iyy="7.9E-07"
        iyz="0"
        izz="7.8E-07" />
    </inertial>
    <visual>
      <origin
        xyz="0 0 0"
        rpy="0 0 0" />
      <geometry>
        <mesh
          filename="../meshes/fourier_hand_6dof/R_middle_intermediate_link.STL" />
      </geometry>
      <material
        name="">
        <color
          rgba="1 1 1 1" />
      </material>
    </visual>
    <collision>
      <origin
        xyz="0 0 0"
        rpy="0 0 0" />
      <geometry>
        <mesh
          filename="../meshes/fourier_hand_6dof/R_middle_intermediate_link.STL" />
      </geometry>
    </collision>
  </link>
  <joint
    name="R_middle_intermediate_joint"
    type="revolute">
    <origin
      xyz="0.031531 -0.0054597 0"
      rpy="0 0.00015517 0.007959" />
    <parent
      link="R_middle_proximal_link" />
    <child
      link="R_middle_intermediate_link" />
    <axis
      xyz="0 0 1" />
    <limit
      lower="-1.792"
      upper="0"
      effort="0"
      velocity="0" />
    <mimic
      joint="R_middle_proximal_joint"
      multiplier="0.975"
      offset="0" />
  </joint>

  <link name="R_middle_tip_link">
    <visual>
      <origin
        xyz="0 0 0"
        rpy="0 0 0" />
      <geometry>
        <sphere radius="0.005" />
      </geometry>
      <material name="yellow">
        <color rgba="0.9 1 0 1" />
      </material>
    </visual>
  </link>
  <joint name="R_middle_tip_joint" type="fixed">
    <parent link="R_middle_intermediate_link" />
    <child link="R_middle_tip_link" />
    <origin rpy="0 0 0" xyz="0.047 -0.0025 0" />
  </joint>


  <link
    name="R_ring_proximal_link">
    <inertial>
      <origin
        xyz="0.01389869 0.00118633 9.91E-06"
        rpy="0 0 0" />
      <mass
        value="0.01124444" />
      <inertia
        ixx="7E-07"
        ixy="2.2E-07"
        ixz="0"
        iyy="1.81E-06"
        iyz="0"
        izz="1.87E-06" />
    </inertial>
    <visual>
      <origin
        xyz="0 0 0"
        rpy="0 0 0" />
      <geometry>
        <mesh
          filename="../meshes/fourier_hand_6dof/R_ring_proximal_link.STL" />
      </geometry>
      <material
        name="">
        <color
          rgba="1 1 1 1" />
      </material>
    </visual>
    <collision>
      <origin
        xyz="0 0 0"
        rpy="0 0 0" />
      <geometry>
        <mesh
          filename="../meshes/fourier_hand_6dof/R_ring_proximal_link.STL" />
      </geometry>
    </collision>
  </link>
  <joint
    name="R_ring_proximal_joint"
    type="revolute">
    <origin
      xyz="-0.0099658 0.0123 -0.095888"
      rpy="0 1.5184 3.1416" />
    <parent
      link="R_hand_base_link" />
    <child
      link="R_ring_proximal_link" />
    <axis
      xyz="0 0 1" />
    <limit
      lower="-1.593"
      upper="0"
      effort="0"
      velocity="0" />
  </joint>
  <link
    name="R_ring_intermediate_link">
    <inertial>
      <origin
        xyz="0.014739 0.0047926 6.8E-06"
        rpy="0 0 0" />
      <mass
        value="0.0027085" />
      <inertia
        ixx="8E-08"
        ixy="3E-08"
        ixz="0"
        iyy="4.9E-07"
        iyz="0"
        izz="4.9E-07" />
    </inertial>
    <visual>
      <origin
        xyz="0 0 0"
        rpy="0 0 0" />
      <geometry>
        <mesh
          filename="../meshes/fourier_hand_6dof/R_ring_intermediate_link.STL" />
      </geometry>
      <material
        name="">
        <color
          rgba="1 1 1 1" />
      </material>
    </visual>
    <collision>
      <origin
        xyz="0 0 0"
        rpy="0 0 0" />
      <geometry>
        <mesh
          filename="../meshes/fourier_hand_6dof/R_ring_intermediate_link.STL" />
      </geometry>
    </collision>
  </link>
  <joint
    name="R_ring_intermediate_joint"
    type="revolute">
    <origin
      xyz="0.031474 -0.0057806 0"
      rpy="0 0.00014037 -0.020997" />
    <parent
      link="R_ring_proximal_link" />
    <child
      link="R_ring_intermediate_link" />
    <axis
      xyz="0 0 1" />
    <limit
      lower="-1.791"
      upper="0"
      effort="0"
      velocity="0" />
    <mimic
      joint="R_ring_proximal_joint"
      multiplier="0.975"
      offset="0" />
  </joint>

  <link name="R_ring_tip_link">
    <visual>
      <origin
        xyz="0 0 0"
        rpy="0 0 0" />
      <geometry>
        <sphere radius="0.005" />
      </geometry>
      <material name="green">
        <color rgba="0.9 1 0 1" />
      </material>
    </visual>
  </link>
  <joint name="R_ring_tip_joint" type="fixed">
    <parent link="R_ring_intermediate_link" />
    <child link="R_ring_tip_link" />
    <origin rpy="0 0 0" xyz="0.0385 -0.0015 0" />
  </joint>

  
  <link
    name="R_pinky_proximal_link">
    <inertial>
      <origin
        xyz="0.01389865 0.0011868 1.899E-05"
        rpy="0 0 0" />
      <mass
        value="0.01124444" />
      <inertia
        ixx="7E-07"
        ixy="2.2E-07"
        ixz="0"
        iyy="1.81E-06"
        iyz="0"
        izz="1.87E-06" />
    </inertial>
    <visual>
      <origin
        xyz="0 0 0"
        rpy="0 0 0" />
      <geometry>
        <mesh
          filename="../meshes/fourier_hand_6dof/R_pinky_proximal_link.STL" />
      </geometry>
      <material
        name="">
        <color
          rgba="1 1 1 1" />
      </material>
    </visual>
    <collision>
      <origin
        xyz="0 0 0"
        rpy="0 0 0" />
      <geometry>
        <mesh
          filename="../meshes/fourier_hand_6dof/R_pinky_proximal_link.STL" />
      </geometry>
    </collision>
  </link>
  <joint
    name="R_pinky_proximal_joint"
    type="revolute">
    <origin
      xyz="-0.028223 0.0123 -0.093963"
      rpy="0 1.4661 3.1416" />
    <parent
      link="R_hand_base_link" />
    <child
      link="R_pinky_proximal_link" />
    <axis
      xyz="0 0 1" />
    <limit
      lower="-1.592"
      upper="0"
      effort="0"
      velocity="0" />
  </joint>
  <link
    name="R_pinky_intermediate_link">
    <inertial>
      <origin
        xyz="0.012117 0.0047104 2.485E-05"
        rpy="0 0 0" />
      <mass
        value="0.0024076" />
      <inertia
        ixx="7E-08"
        ixy="1E-08"
        ixz="0"
        iyy="3.2E-07"
        iyz="0"
        izz="3.2E-07" />
    </inertial>
    <visual>
      <origin
        xyz="0 0 0"
        rpy="0 0 0" />
      <geometry>
        <mesh
          filename="../meshes/fourier_hand_6dof/R_pinky_intermediate_link.STL" />
      </geometry>
      <material
        name="">
        <color
          rgba="1 1 1 1" />
      </material>
    </visual>
    <collision>
      <origin
        xyz="0 0 0"
        rpy="0 0 0" />
      <geometry>
        <mesh
          filename="../meshes/fourier_hand_6dof/R_pinky_intermediate_link.STL" />
      </geometry>
    </collision>
  </link>
  <joint
    name="R_pinky_intermediate_joint"
    type="revolute">
    <origin
      xyz="0.031474 -0.0057796 0"
      rpy="0 7.8504E-05 -0.030132" />
    <parent
      link="R_pinky_proximal_link" />
    <child
      link="R_pinky_intermediate_link" />
    <axis
      xyz="0 0 1" />
    <limit
      lower="-1.791"
      upper="0"
      effort="0"
      velocity="0" />
    <mimic
      joint="R_pinky_proximal_joint"
      multiplier="0.975"
      offset="0" />
  </joint>

  <link name="R_pinky_tip_link">
    <visual>
      <origin
        xyz="0 0 0"
        rpy="0 0 0" />
      <geometry>
        <sphere radius="0.005" />
      </geometry>
      <material name="yellow">
        <color rgba="0.9 1 0 1" />
      </material>
    </visual>
  </link>
  <joint name="R_pinky_tip_joint" type="fixed">
    <parent link="R_pinky_intermediate_link" />
    <child link="R_pinky_tip_link" />
    <origin rpy="0 0 0" xyz="0.033 -0.0015 0" />
  </joint>




  <link
    name="left_thigh_pitch_link">
    <inertial>
      <origin
        xyz="-0.035065 0.036467 0.0020083"
        rpy="0 0 0" />
      <mass
        value="2.61" />
      <inertia
        ixx="0.0075932"
        ixy="0.0031974"
        ixz="-8.035E-05"
        iyy="0.0085937"
        iyz="-9.448E-05"
        izz="0.011716" />
    </inertial>
    <visual>
      <origin
        xyz="0 0 0"
        rpy="0 0 0" />
      <geometry>
        <mesh
          filename="../meshes/gr2t2v2_long/left_thigh_pitch_link.STL" />
      </geometry>
      <material
        name="">
        <color
          rgba="1 1 1 1" />
      </material>
    </visual>
    <collision>
      <origin
        xyz="0 0 0"
        rpy="0 0 0" />
      <geometry>
        <mesh
          filename="../meshes/gr2t2v2_long/left_thigh_pitch_link.STL" />
      </geometry>
    </collision>
  </link>
  <joint
    name="left_hip_pitch_joint"
    type="revolute">
    <origin
      xyz="0 0.076867 -0.12355"
      rpy="-0.5236 0 0" />
    <parent
      link="base_link" />
    <child
      link="left_thigh_pitch_link" />
    <axis
      xyz="0 1 0" />
    <limit
      lower="-2.618"
      upper="2.618"
      effort="366.05"
      velocity="6.4997" />
  </joint>
  <link
    name="left_thigh_roll_link">
    <inertial>
      <origin
        xyz="0.027776 -0.00010848 -0.0074687"
        rpy="0 0 0" />
      <mass
        value="1.3487" />
      <inertia
        ixx="0.001181"
        ixy="-5.3E-06"
        ixz="0.00034163"
        iyy="0.0026369"
        iyz="-3.01E-06"
        izz="0.0027651" />
    </inertial>
    <visual>
      <origin
        xyz="0 0 0"
        rpy="0 0 0" />
      <geometry>
        <mesh
          filename="../meshes/gr2t2v2_long/left_thigh_roll_link.STL" />
      </geometry>
      <material
        name="">
        <color
          rgba="1 1 1 1" />
      </material>
    </visual>
    <collision>
      <origin
        xyz="0 0 0"
        rpy="0 0 0" />
      <geometry>
        <mesh
          filename="../meshes/gr2t2v2_long/left_thigh_roll_link.STL" />
      </geometry>
    </collision>
  </link>
  <joint
    name="left_hip_roll_joint"
    type="revolute">
    <origin
      xyz="-0.062 0.0729 0"
      rpy="0.5236 0 0" />
    <parent
      link="left_thigh_pitch_link" />
    <child
      link="left_thigh_roll_link" />
    <axis
      xyz="1 0 0" />
    <limit
      lower="-0.59341"
      upper="1.5708"
      effort="95.472"
      velocity="12.362" />
  </joint>
  <link
    name="left_thigh_yaw_link">
    <inertial>
      <origin
        xyz="0.0010147 -0.012758 -0.14387"
        rpy="0 0 0" />
      <mass
        value="5.1152" />
      <inertia
        ixx="0.042296"
        ixy="-8.538E-05"
        ixz="0.00038855"
        iyy="0.043183"
        iyz="0.00098874"
        izz="0.0099198" />
    </inertial>
    <visual>
      <origin
        xyz="0 0 0"
        rpy="0 0 0" />
      <geometry>
        <mesh
          filename="../meshes/gr2t2v2_long/left_thigh_yaw_link.STL" />
      </geometry>
      <material
        name="">
        <color
          rgba="1 1 1 1" />
      </material>
    </visual>
    <collision>
      <origin
        xyz="0 0 0"
        rpy="0 0 0" />
      <geometry>
        <mesh
          filename="../meshes/gr2t2v2_long/left_thigh_yaw_link.STL" />
      </geometry>
    </collision>
  </link>
  <joint
    name="left_hip_yaw_joint"
    type="revolute">
    <origin
      xyz="0.062 0 -0.03495"
      rpy="0 0 0" />
    <parent
      link="left_thigh_roll_link" />
    <child
      link="left_thigh_yaw_link" />
    <axis
      xyz="0 0 1" />
    <limit
      lower="-0.69813"
      upper="1.5708"
      effort="54.33"
      velocity="14.745" />
  </joint>
  <link
    name="left_shank_pitch_link">
    <inertial>
      <origin
        xyz="0.004743 -0.0014414 -0.1756"
        rpy="0 0 0" />
      <mass
        value="3.5932" />
      <inertia
        ixx="0.034881"
        ixy="-1.912E-05"
        ixz="-6.005E-05"
        iyy="0.035366"
        iyz="0.0010678"
        izz="0.0043262" />
    </inertial>
    <visual>
      <origin
        xyz="0 0 0"
        rpy="0 0 0" />
      <geometry>
        <mesh
          filename="../meshes/gr2t2v2_long/left_shank_pitch_link.STL" />
      </geometry>
      <material
        name="">
        <color
          rgba="1 1 1 1" />
      </material>
    </visual>
    <collision>
      <origin
        xyz="0 0 0"
        rpy="0 0 0" />
      <geometry>
        <mesh
          filename="../meshes/gr2t2v2_long/left_shank_pitch_link.STL" />
      </geometry>
    </collision>
  </link>
  <joint
    name="left_knee_pitch_joint"
    type="revolute">
    <origin
      xyz="0 0 -0.34305"
      rpy="0 0 0" />
    <parent
      link="left_thigh_yaw_link" />
    <child
      link="left_shank_pitch_link" />
    <axis
      xyz="0 1 0" />
    <limit
      lower="-0.087266"
      upper="2.3562"
      effort="366.05"
      velocity="6.4997" />
  </joint>
  <link
    name="left_foot_pitch_link">
    <inertial>
      <origin
        xyz="0.026267 1.226E-05 0.0010987"
        rpy="0 0 0" />
      <mass
        value="0.17877" />
      <inertia
        ixx="1.261E-05"
        ixy="-9E-08"
        ixz="5.14E-06"
        iyy="0.00021914"
        iyz="-1.8E-07"
        izz="0.00022011" />
    </inertial>
    <visual>
      <origin
        xyz="0 0 0"
        rpy="0 0 0" />
      <geometry>
        <mesh
          filename="../meshes/gr2t2v2_long/left_foot_pitch_link.STL" />
      </geometry>
      <material
        name="">
        <color
          rgba="1 1 1 1" />
      </material>
    </visual>
    <collision>
      <origin
        xyz="0 0 0"
        rpy="0 0 0" />
      <geometry>
        <mesh
          filename="../meshes/gr2t2v2_long/left_foot_pitch_link.STL" />
      </geometry>
    </collision>
  </link>
  <joint
    name="left_ankle_pitch_joint"
    type="revolute">
    <origin
      xyz="0 0 -0.406"
      rpy="0 0 0" />
    <parent
      link="left_shank_pitch_link" />
    <child
      link="left_foot_pitch_link" />
    <axis
      xyz="0 1 0" />
    <limit
      lower="-0.7854"
      upper="0.7854"
      effort="54.33"
      velocity="14.745" />
  </joint>
  <link
    name="left_foot_roll_link">
    <inertial>
      <origin
        xyz="0.050086 0.006159 -0.032795"
        rpy="0 0 0" />
      <mass
        value="1.1232" />
      <inertia
        ixx="0.0012612"
        ixy="0.00033767"
        ixz="0.00043059"
        iyy="0.0067074"
        iyz="-0.00019341"
        izz="0.0072126" />
    </inertial>
    <visual>
      <origin
        xyz="0 0 0"
        rpy="0 0 0" />
      <geometry>
        <mesh
          filename="../meshes/gr2t2v2_long/left_foot_roll_link.STL" />
      </geometry>
      <material
        name="">
        <color
          rgba="1 1 1 1" />
      </material>
    </visual>
    <collision>
      <origin
        xyz="0 0 0"
        rpy="0 0 0" />
      <geometry>
        <mesh
          filename="../meshes/gr2t2v2_long/left_foot_roll_link.STL" />
      </geometry>
    </collision>
  </link>
  <joint
    name="left_ankle_roll_joint"
    type="revolute">
    <origin
      xyz="0 0 0"
      rpy="0 0 0" />
    <parent
      link="left_foot_pitch_link" />
    <child
      link="left_foot_roll_link" />
    <axis
      xyz="1 0 0" />
    <limit
      lower="-0.38397"
      upper="0.38397"
      effort="29.835"
      velocity="16.755" />
  </joint>
  <link
    name="right_thigh_pitch_link">
    <inertial>
      <origin
        xyz="-0.035065 -0.036467 0.0020083"
        rpy="0 0 0" />
      <mass
        value="2.61" />
      <inertia
        ixx="0.0075932"
        ixy="-0.0031974"
        ixz="-8.035E-05"
        iyy="0.0085937"
        iyz="9.448E-05"
        izz="0.011716" />
    </inertial>
    <visual>
      <origin
        xyz="0 0 0"
        rpy="0 0 0" />
      <geometry>
        <mesh
          filename="../meshes/gr2t2v2_long/right_thigh_pitch_link.STL" />
      </geometry>
      <material
        name="">
        <color
          rgba="1 1 1 1" />
      </material>
    </visual>
    <collision>
      <origin
        xyz="0 0 0"
        rpy="0 0 0" />
      <geometry>
        <mesh
          filename="../meshes/gr2t2v2_long/right_thigh_pitch_link.STL" />
      </geometry>
    </collision>
  </link>
  <joint
    name="right_hip_pitch_joint"
    type="revolute">
    <origin
      xyz="0 -0.076867 -0.12355"
      rpy="0.5236 0 0" />
    <parent
      link="base_link" />
    <child
      link="right_thigh_pitch_link" />
    <axis
      xyz="0 1 0" />
    <limit
      lower="-2.618"
      upper="2.618"
      effort="366.05"
      velocity="6.4997" />
  </joint>
  <link
    name="right_thigh_roll_link">
    <inertial>
      <origin
        xyz="0.027776 0.00010848 -0.0074687"
        rpy="0 0 0" />
      <mass
        value="1.3487" />
      <inertia
        ixx="0.001181"
        ixy="5.3E-06"
        ixz="0.00034163"
        iyy="0.0026369"
        iyz="3.01E-06"
        izz="0.0027651" />
    </inertial>
    <visual>
      <origin
        xyz="0 0 0"
        rpy="0 0 0" />
      <geometry>
        <mesh
          filename="../meshes/gr2t2v2_long/right_thigh_roll_link.STL" />
      </geometry>
      <material
        name="">
        <color
          rgba="1 1 1 1" />
      </material>
    </visual>
    <collision>
      <origin
        xyz="0 0 0"
        rpy="0 0 0" />
      <geometry>
        <mesh
          filename="../meshes/gr2t2v2_long/right_thigh_roll_link.STL" />
      </geometry>
    </collision>
  </link>
  <joint
    name="right_hip_roll_joint"
    type="revolute">
    <origin
      xyz="-0.062 -0.0729 0"
      rpy="-0.5236 0 0" />
    <parent
      link="right_thigh_pitch_link" />
    <child
      link="right_thigh_roll_link" />
    <axis
      xyz="1 0 0" />
    <limit
      lower="-1.5708"
      upper="0.59341"
      effort="95.472"
      velocity="12.362" />
  </joint>
  <link
    name="right_thigh_yaw_link">
    <inertial>
      <origin
        xyz="0.0010147 0.012758 -0.14387"
        rpy="0 0 0" />
      <mass
        value="5.1152" />
      <inertia
        ixx="0.042296"
        ixy="8.538E-05"
        ixz="0.00038855"
        iyy="0.043183"
        iyz="-0.00098874"
        izz="0.0099198" />
    </inertial>
    <visual>
      <origin
        xyz="0 0 0"
        rpy="0 0 0" />
      <geometry>
        <mesh
          filename="../meshes/gr2t2v2_long/right_thigh_yaw_link.STL" />
      </geometry>
      <material
        name="">
        <color
          rgba="1 1 1 1" />
      </material>
    </visual>
    <collision>
      <origin
        xyz="0 0 0"
        rpy="0 0 0" />
      <geometry>
        <mesh
          filename="../meshes/gr2t2v2_long/right_thigh_yaw_link.STL" />
      </geometry>
    </collision>
  </link>
  <joint
    name="right_hip_yaw_joint"
    type="revolute">
    <origin
      xyz="0.062 0 -0.03495"
      rpy="0 0 0" />
    <parent
      link="right_thigh_roll_link" />
    <child
      link="right_thigh_yaw_link" />
    <axis
      xyz="0 0 1" />
    <limit
      lower="-1.5708"
      upper="0.69813"
      effort="54.33"
      velocity="14.745" />
  </joint>
  <link
    name="right_shank_pitch_link">
    <inertial>
      <origin
        xyz="0.004743 0.0014414 -0.1756"
        rpy="0 0 0" />
      <mass
        value="3.5932" />
      <inertia
        ixx="0.034881"
        ixy="1.912E-05"
        ixz="-6.005E-05"
        iyy="0.035366"
        iyz="-0.0010678"
        izz="0.0043262" />
    </inertial>
    <visual>
      <origin
        xyz="0 0 0"
        rpy="0 0 0" />
      <geometry>
        <mesh
          filename="../meshes/gr2t2v2_long/right_shank_pitch_link.STL" />
      </geometry>
      <material
        name="">
        <color
          rgba="1 1 1 1" />
      </material>
    </visual>
    <collision>
      <origin
        xyz="0 0 0"
        rpy="0 0 0" />
      <geometry>
        <mesh
          filename="../meshes/gr2t2v2_long/right_shank_pitch_link.STL" />
      </geometry>
    </collision>
  </link>
  <joint
    name="right_knee_pitch_joint"
    type="revolute">
    <origin
      xyz="0 0 -0.34305"
      rpy="0 0 0" />
    <parent
      link="right_thigh_yaw_link" />
    <child
      link="right_shank_pitch_link" />
    <axis
      xyz="0 1 0" />
    <limit
      lower="-0.087266"
      upper="2.3562"
      effort="366.05"
      velocity="6.4997" />
  </joint>
  <link
    name="right_foot_pitch_link">
    <inertial>
      <origin
        xyz="0.026267 -1.226E-05 0.0010987"
        rpy="0 0 0" />
      <mass
        value="0.17877" />
      <inertia
        ixx="1.261E-05"
        ixy="9E-08"
        ixz="5.14E-06"
        iyy="0.00021914"
        iyz="1.8E-07"
        izz="0.00022011" />
    </inertial>
    <visual>
      <origin
        xyz="0 0 0"
        rpy="0 0 0" />
      <geometry>
        <mesh
          filename="../meshes/gr2t2v2_long/right_foot_pitch_link.STL" />
      </geometry>
      <material
        name="">
        <color
          rgba="1 1 1 1" />
      </material>
    </visual>
    <collision>
      <origin
        xyz="0 0 0"
        rpy="0 0 0" />
      <geometry>
        <mesh
          filename="../meshes/gr2t2v2_long/right_foot_pitch_link.STL" />
      </geometry>
    </collision>
  </link>
  <joint
    name="right_ankle_pitch_joint"
    type="revolute">
    <origin
      xyz="0 0 -0.406"
      rpy="0 0 0" />
    <parent
      link="right_shank_pitch_link" />
    <child
      link="right_foot_pitch_link" />
    <axis
      xyz="0 1 0" />
    <limit
      lower="-0.7854"
      upper="0.7854"
      effort="54.33"
      velocity="14.745" />
  </joint>
  <link
    name="right_foot_roll_link">
    <inertial>
      <origin
        xyz="0.050086 -0.006159 -0.032795"
        rpy="0 0 0" />
      <mass
        value="1.1232" />
      <inertia
        ixx="0.0012612"
        ixy="-0.00033767"
        ixz="0.00043059"
        iyy="0.0067074"
        iyz="0.00019341"
        izz="0.0072126" />
    </inertial>
    <visual>
      <origin
        xyz="0 0 0"
        rpy="0 0 0" />
      <geometry>
        <mesh
          filename="../meshes/gr2t2v2_long/right_foot_roll_link.STL" />
      </geometry>
      <material
        name="">
        <color
          rgba="1 1 1 1" />
      </material>
    </visual>
    <collision>
      <origin
        xyz="0 0 0"
        rpy="0 0 0" />
      <geometry>
        <mesh
          filename="../meshes/gr2t2v2_long/right_foot_roll_link.STL" />
      </geometry>
    </collision>
  </link>
  <joint
    name="right_ankle_roll_joint"
    type="revolute">
    <origin
      xyz="0 0 0"
      rpy="0 0 0" />
    <parent
      link="right_foot_pitch_link" />
    <child
      link="right_foot_roll_link" />
    <axis
      xyz="1 0 0" />
    <limit
      lower="-0.38397"
      upper="0.38397"
      effort="29.835"
      velocity="16.755" />
  </joint>
  <link
    name="imu_link">
    <inertial>
      <origin
        xyz="0 0 0"
        rpy="0 0 0" />
      <mass
        value="0" />
      <inertia
        ixx="0"
        ixy="0"
        ixz="0"
        iyy="0"
        iyz="0"
        izz="0" />
    </inertial>
    <visual>
      <origin
        xyz="0 0 0"
        rpy="0 0 0" />
      <geometry>
        <mesh
          filename="../meshes/gr2t2v2_long/imu_link.STL" />
      </geometry>
      <material
        name="">
        <color
          rgba="1 1 1 1" />
      </material>
    </visual>
    <collision>
      <origin
        xyz="0 0 0"
        rpy="0 0 0" />
      <geometry>
        <mesh
          filename="../meshes/gr2t2v2_long/imu_link.STL" />
      </geometry>
    </collision>
  </link>
  <joint
    name="imu_joint"
    type="fixed">
    <origin
      xyz="-0.059 0 -0.068"
      rpy="0 0 0" />
    <parent
      link="base_link" />
    <child
      link="imu_link" />
    <axis
      xyz="0 0 0" />
  </joint>
</robot>
